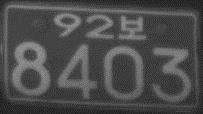0: (102, 45, 144, 101)
2: (84, 13, 113, 40)
3: (152, 45, 192, 104)
4: (56, 43, 98, 99)
8: (11, 40, 52, 96)
9: (52, 12, 81, 37)
보: (117, 14, 147, 40)
